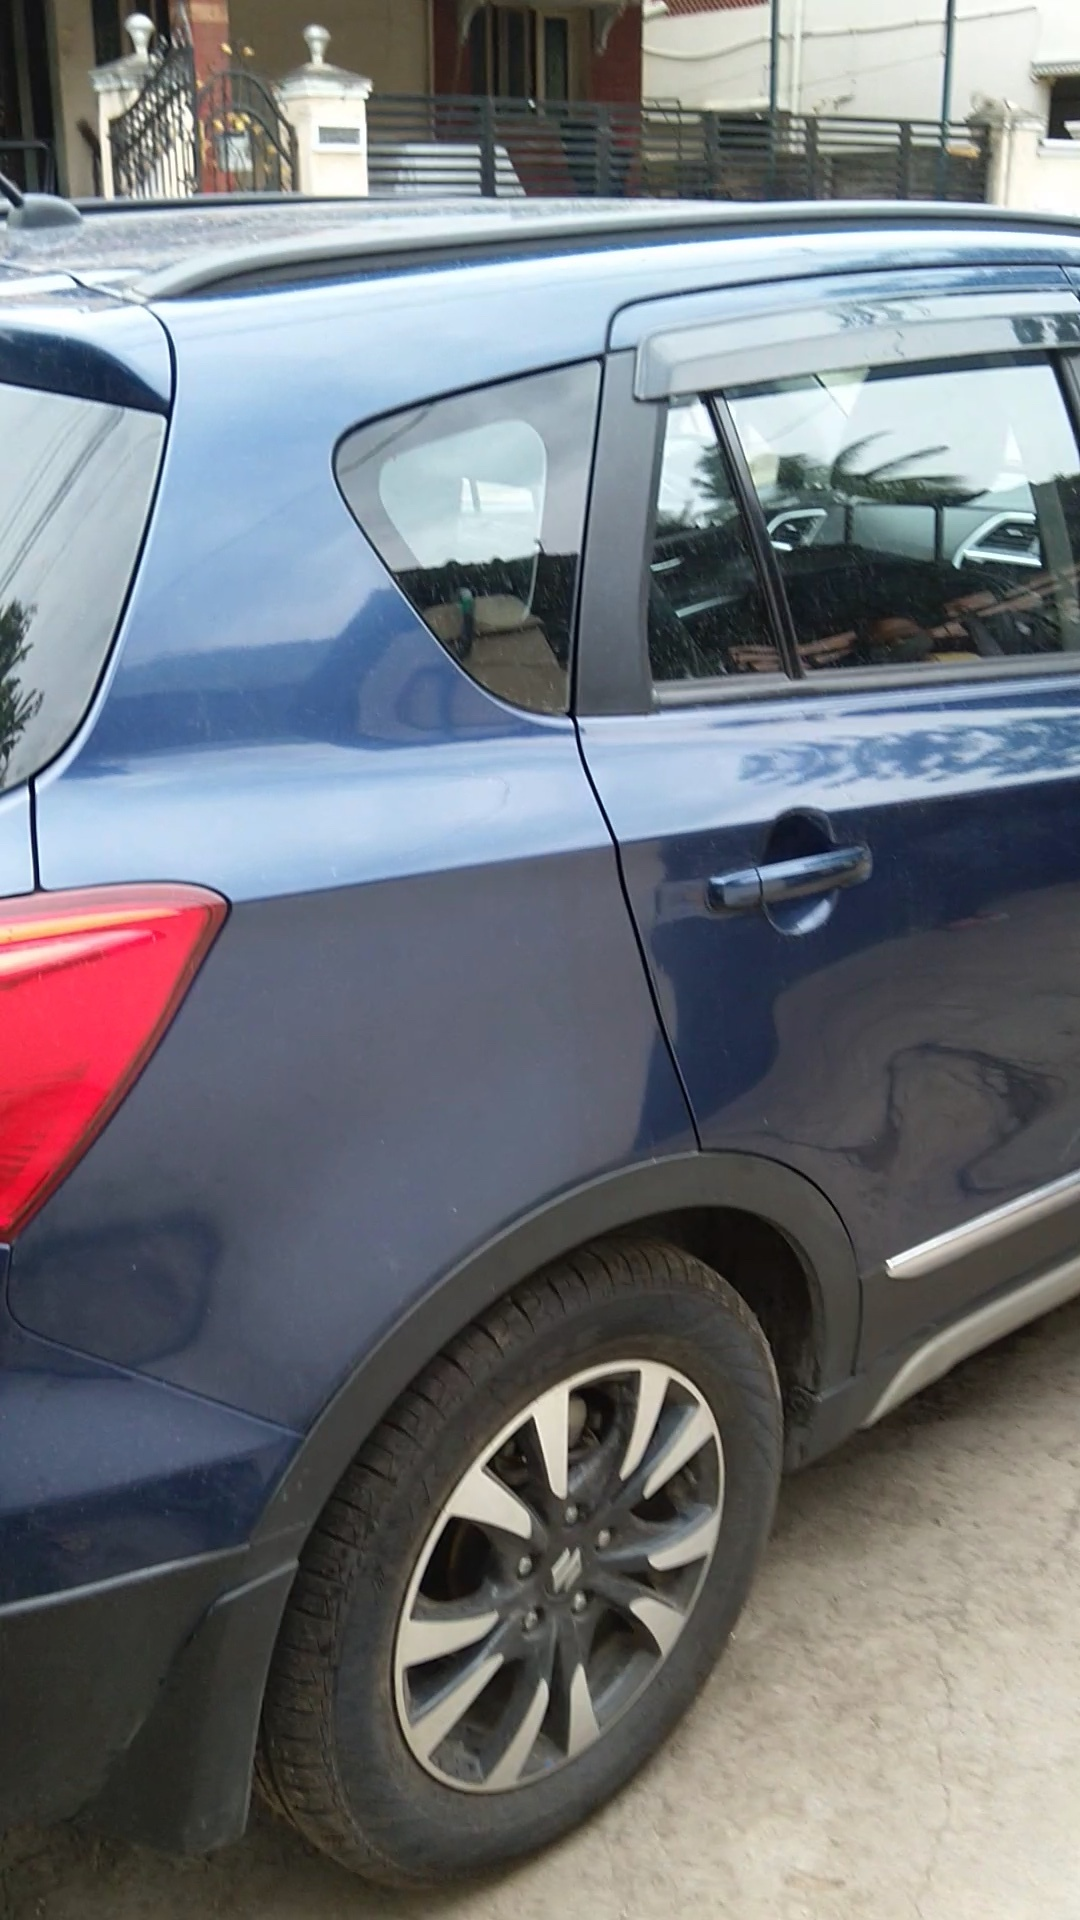alloy_wheel: (314, 1255, 779, 1920)
